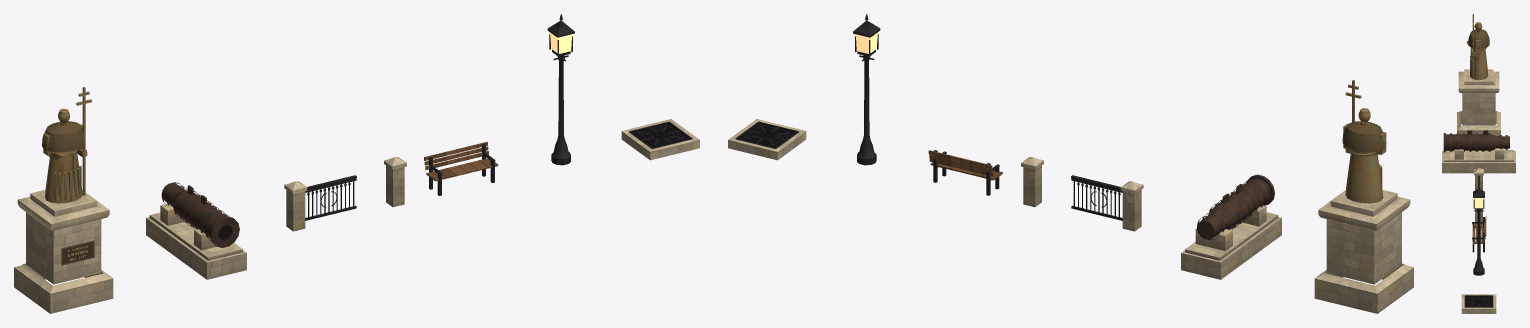
File: espolon_props.glb
The picture shows the model from 3 angles, left to right: view 1: azimuth 30°, elevation 25°; view 2: azimuth 150°, elevation 25°; view 3: azimuth 270°, elevation 25°; orthographic projection. The views are drawn at different scales.
Parts seen in each view (by area): view 1: statue_cisneros, bombard, plane_tree_grate, railing_2m, bench, lamp, railing_post; view 2: statue_cisneros, bombard, plane_tree_grate, railing_2m, lamp, bench, railing_post; view 3: statue_cisneros, bombard, plane_tree_grate, lamp, bench, railing_2m, railing_post.
Boxes of the visible parts, x1,y1,x2,y2 form: statue_cisneros: [14, 87, 113, 313]; bombard: [146, 182, 246, 279]; plane_tree_grate: [621, 119, 699, 160]; railing_2m: [284, 175, 356, 231]; bench: [424, 142, 498, 195]; lamp: [547, 14, 574, 165]; railing_post: [384, 157, 406, 207]; statue_cisneros: [1314, 80, 1413, 313]; bombard: [1181, 174, 1281, 279]; plane_tree_grate: [728, 119, 806, 160]; railing_2m: [1071, 175, 1143, 231]; lamp: [853, 14, 880, 165]; bench: [928, 150, 1002, 195]; railing_post: [1021, 157, 1043, 207]; statue_cisneros: [1457, 14, 1500, 135]; bombard: [1442, 130, 1515, 173]; plane_tree_grate: [1461, 294, 1496, 313]; lamp: [1473, 185, 1484, 275]; bench: [1472, 216, 1486, 252]; railing_2m: [1474, 168, 1483, 190]; railing_post: [1475, 209, 1482, 226].
Size of the model in its own units: 19.7 by 5.91 by 3.2.
Materials: 8 (8 with a texture image).
